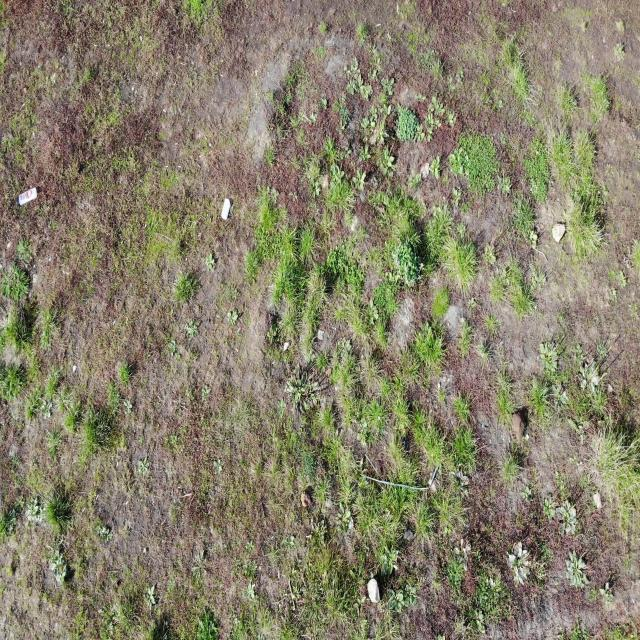rubbish: (16, 186, 41, 207), (220, 198, 233, 222)
